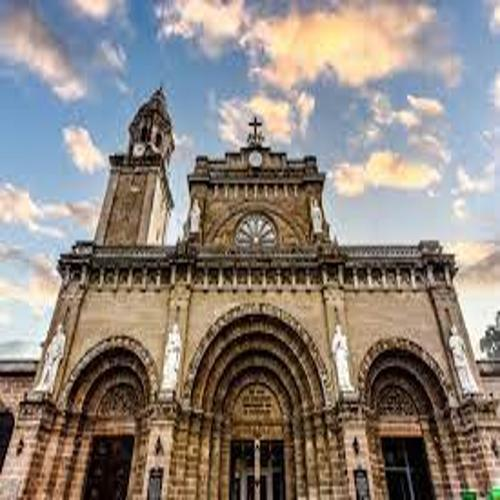Manila Cathedral Church: (10, 76, 500, 500)
